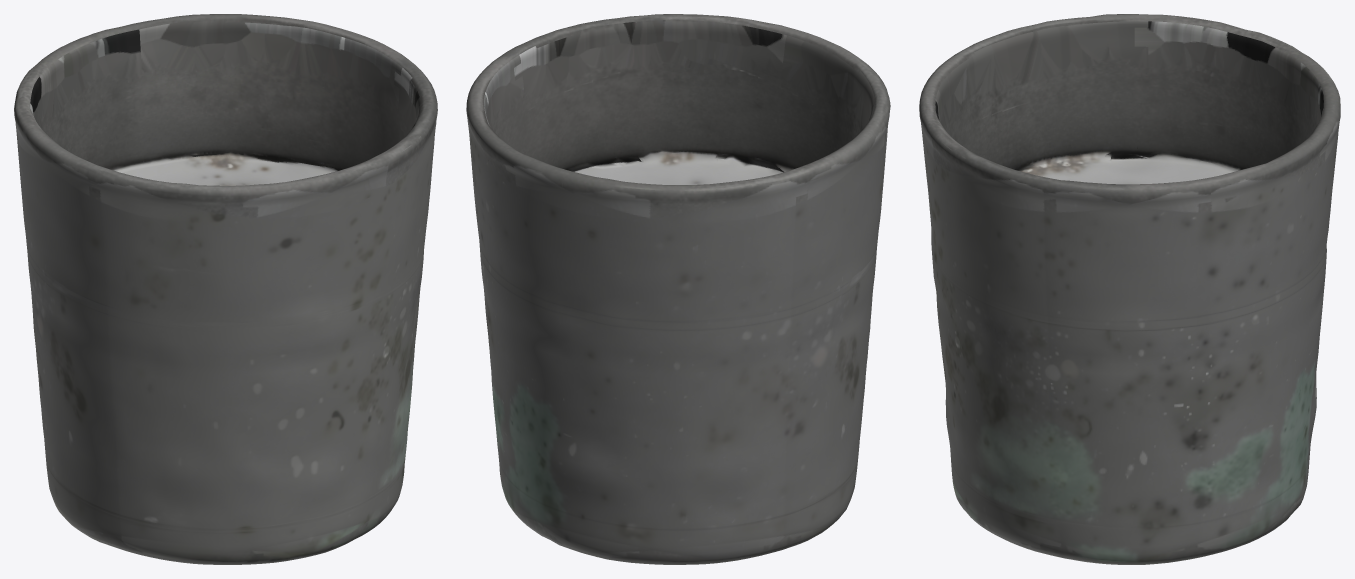
The model's file is glass.glb.
The picture shows the model from 3 angles, left to right: view 1: azimuth 30°, elevation 25°; view 2: azimuth 150°, elevation 25°; view 3: azimuth 270°, elevation 25°; orthographic projection.
Bounding box in the file's own units: 1.84 × 1.91 × 1.84.
Materials: 1 (1 with a texture image).
